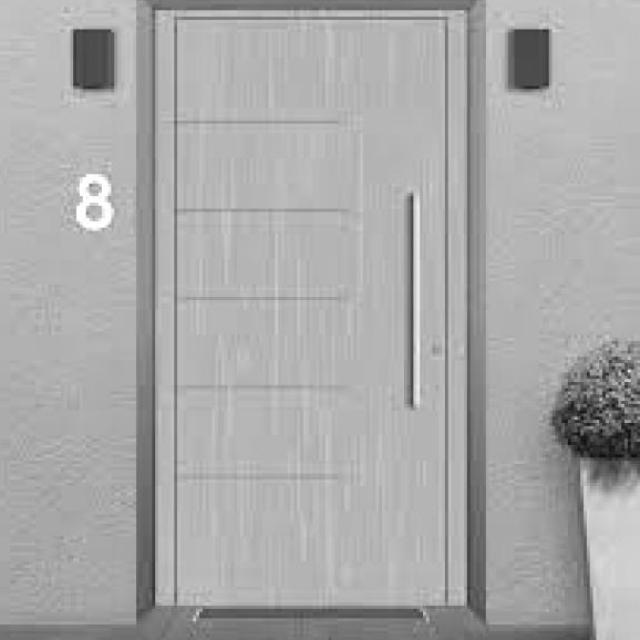door: (159, 10, 461, 610)
